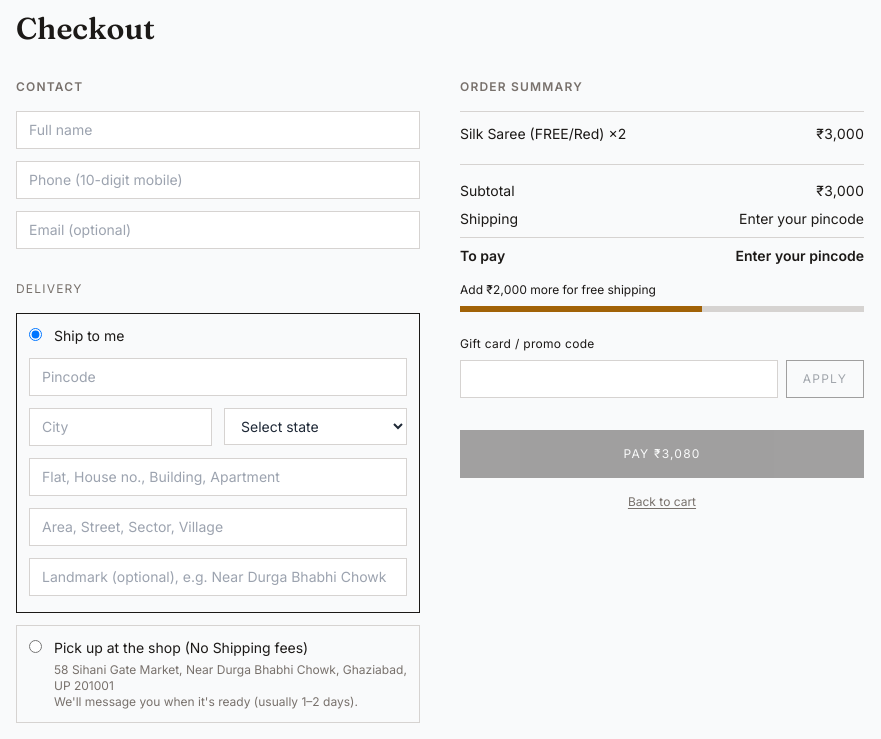
Test: shows code messages and lets an applied code be removed
Expected: the text with test id "quote-to-pay" is shown, [736, 246, 864, 266]
Type "BAD" into the field labelled "Gift card / promo code" at [619, 379], box [460, 360, 778, 398]
Click the button "Apply" at [825, 379], box [786, 360, 864, 398]
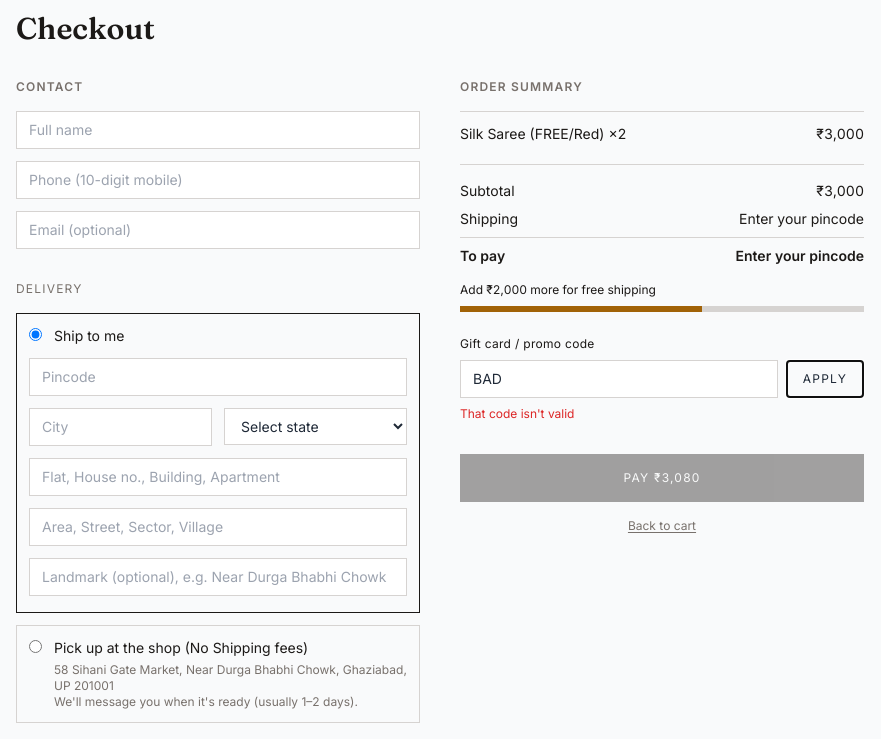
Result: the text "That code isn't valid" is shown at [460, 406, 574, 421]
Replace the text in the field labelled "Gift card / promo code" with "SLOW" at [619, 379], box [460, 360, 778, 398]
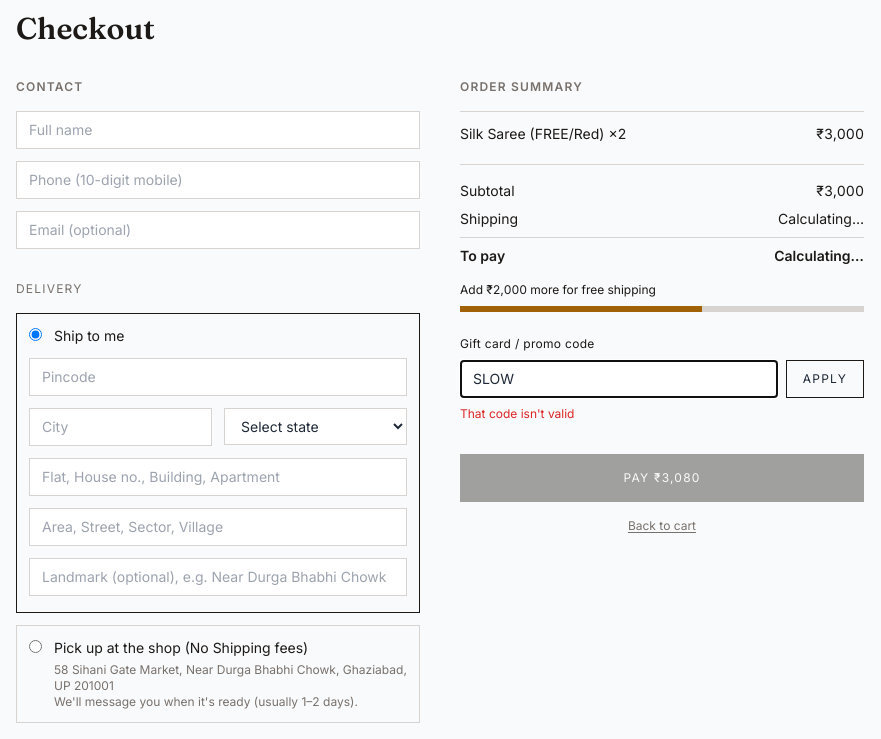
Click the button "Apply" at [825, 379], box [786, 360, 864, 398]
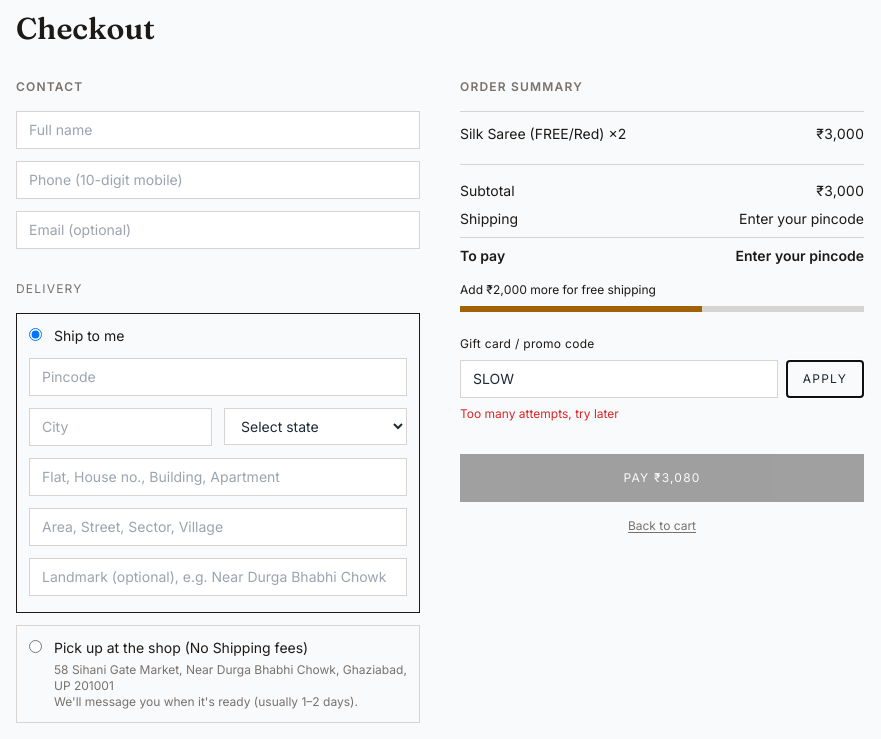
Result: the text "Too many attempts, try later" is shown at [460, 406, 619, 421]
Replace the text in the field labelled "Gift card / promo code" with "GOOD" at [619, 379], box [460, 360, 778, 398]
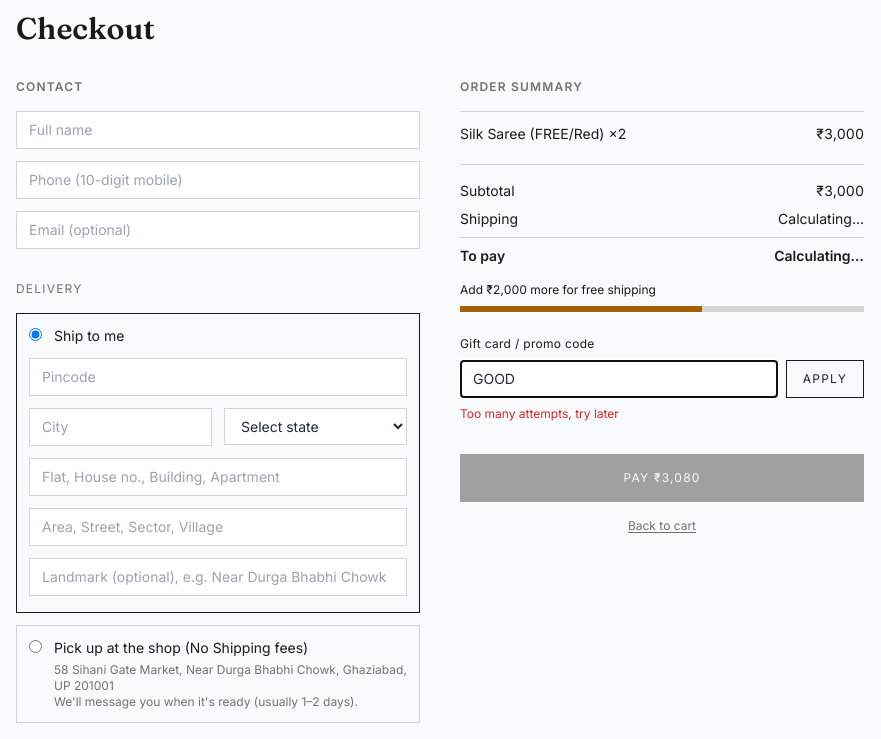
Click the button "Apply" at [825, 379], box [786, 360, 864, 398]
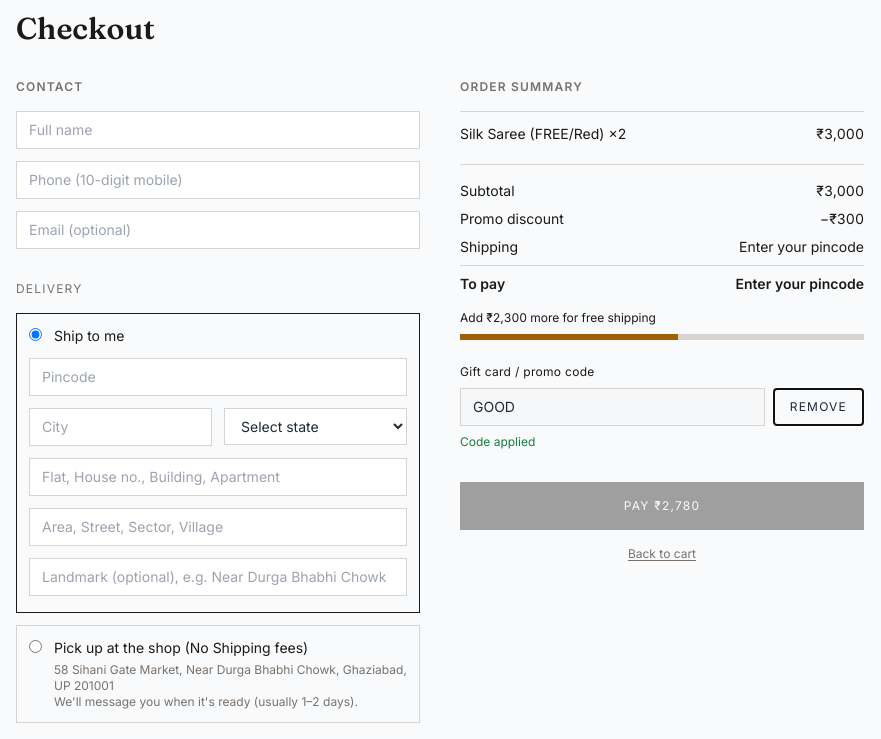
Result: the text "Code applied" is shown at [460, 434, 535, 449]
Result: the text with test id "quote-promo" reads "−₹300" at [820, 210, 864, 227]
Click the button "Remove" at [818, 407], box [773, 388, 864, 426]
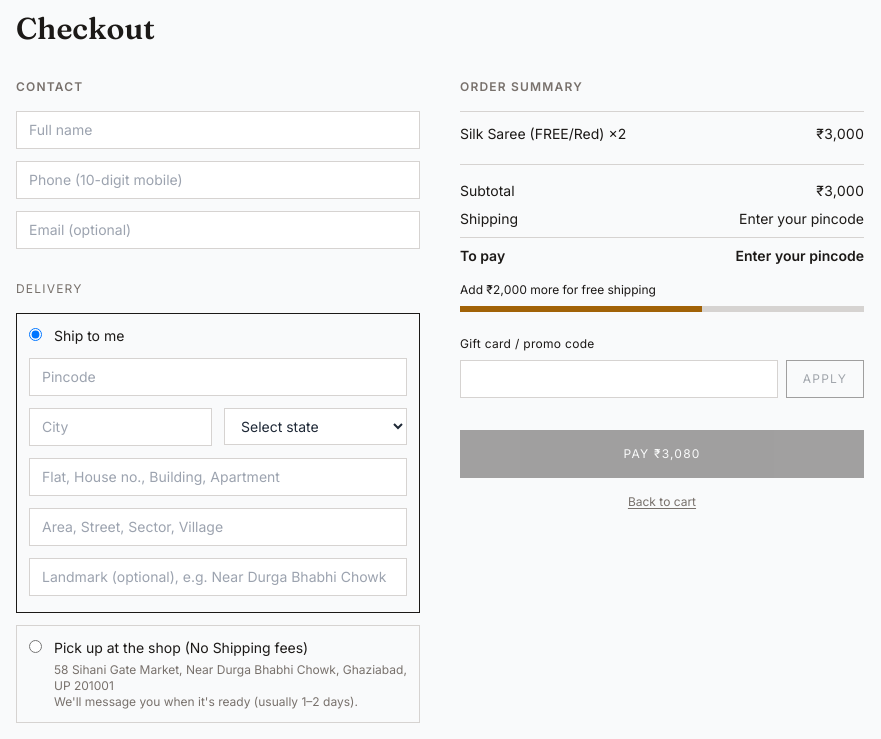
Result: the text "Code applied" is gone
